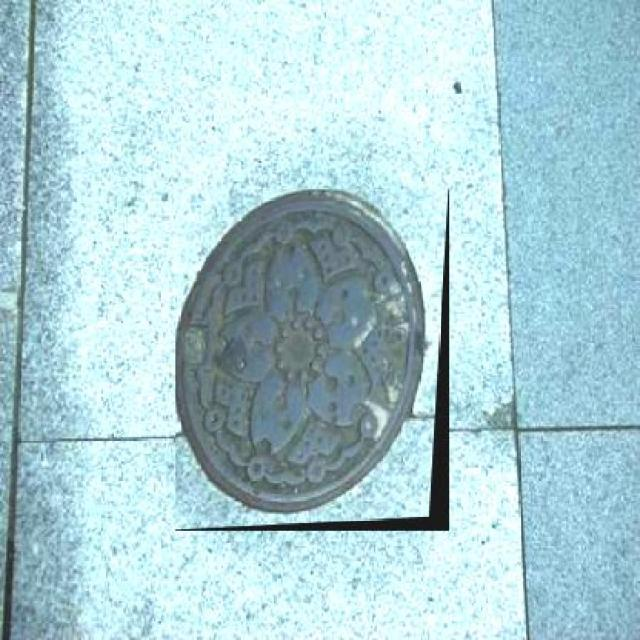Manhole: (176, 189, 450, 531)
